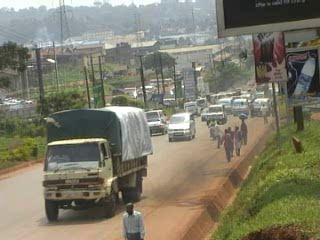Car: (163, 111, 199, 143), (204, 104, 231, 126), (148, 118, 168, 136), (198, 106, 210, 121)
Motorcycle: (205, 123, 221, 140)
